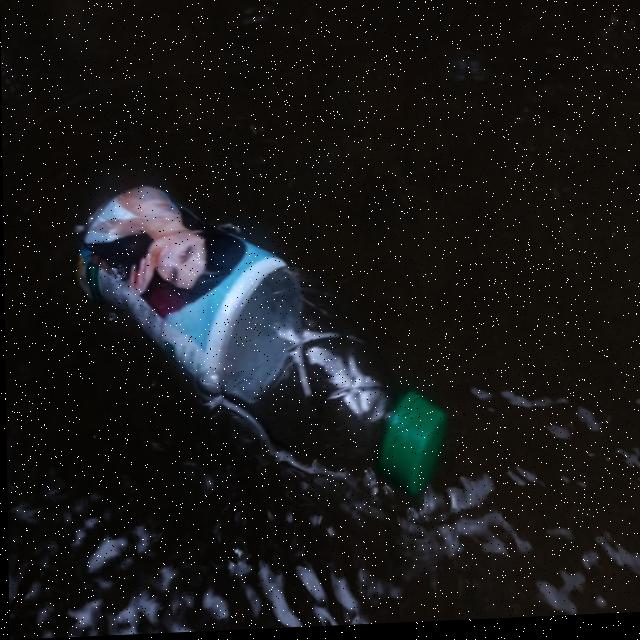waterbottle: (63, 179, 465, 489)
